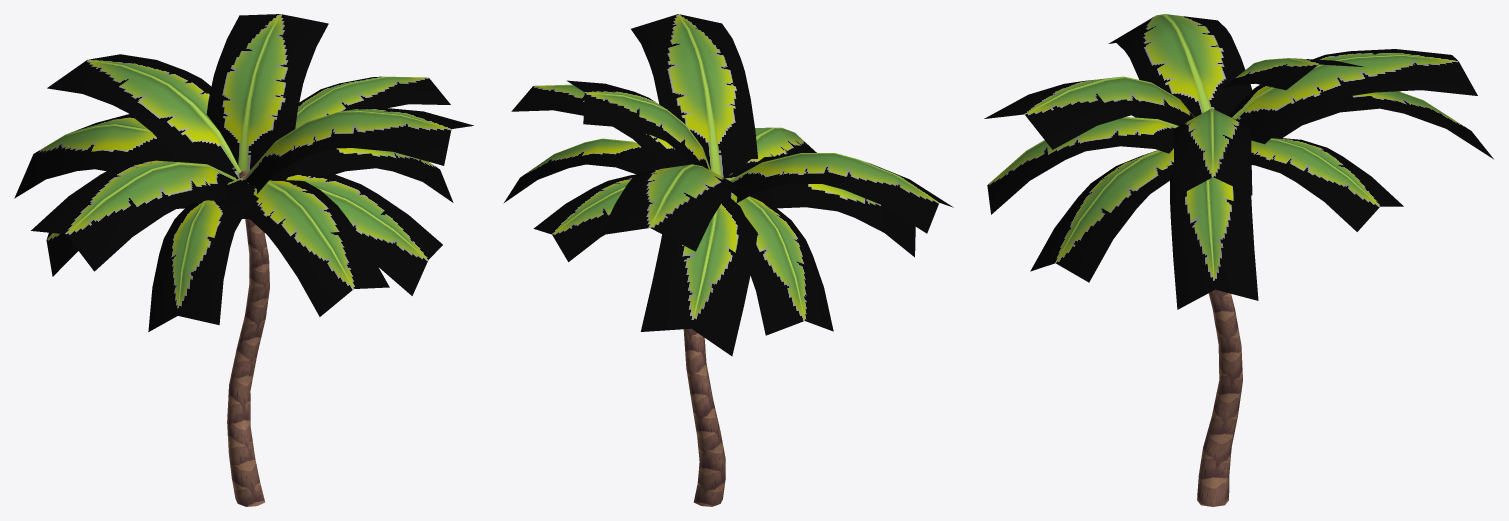
Rendered from q_PalmTree_1.glb.
The picture shows the model from 3 angles, left to right: view 1: azimuth 30°, elevation 25°; view 2: azimuth 150°, elevation 25°; view 3: azimuth 270°, elevation 25°; orthographic projection. The views are drawn at different scales.
Parts seen in each view (by area): view 1: PalmTree_1_Cube.003; view 2: PalmTree_1_Cube.003; view 3: PalmTree_1_Cube.003.
Part boxes in pixels (x1,y1,x2,y2): PalmTree_1_Cube.003: (14,14,473,506); PalmTree_1_Cube.003: (503,14,953,506); PalmTree_1_Cube.003: (984,14,1493,506).
Size of the model in its own units: 5.09 by 5.1 by 4.95.
2 materials, 2 textured.
